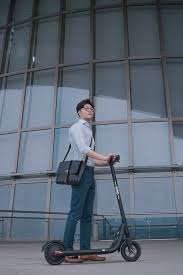kick_body: (66, 250, 117, 253)
kick_wheel: (43, 240, 65, 264), (122, 241, 141, 261)
